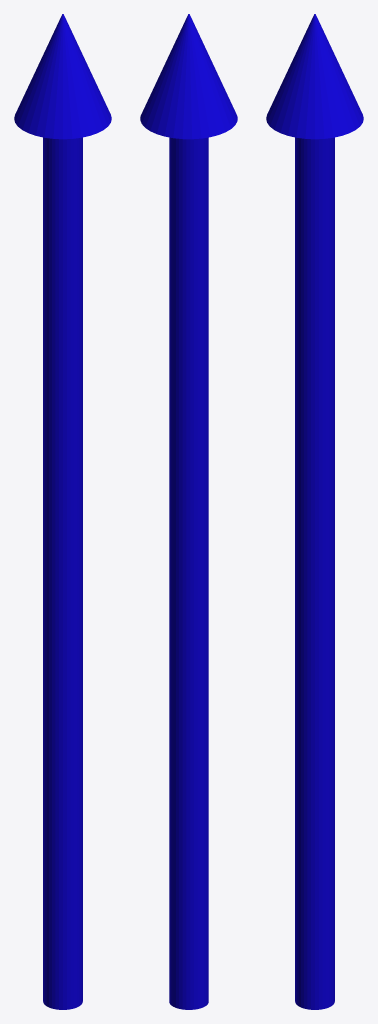
The model's file is eixo_z.fbx.
3 views of the same model, side by side, from view 1: azimuth 90°, elevation 25°; view 2: azimuth 150°, elevation 25°; view 3: azimuth 270°, elevation 25° (orthographic).
Parts seen in each view (by area): view 1: Cylinder-col; view 2: Cylinder-col; view 3: Cylinder-col.
Part boxes in pixels (x1=…): Cylinder-col: x1=14, y1=14, x2=111, y2=1009; Cylinder-col: x1=140, y1=14, x2=237, y2=1009; Cylinder-col: x1=266, y1=14, x2=363, y2=1009.
Bounding box in the file's own units: 88.67 × 988 × 88.67.
